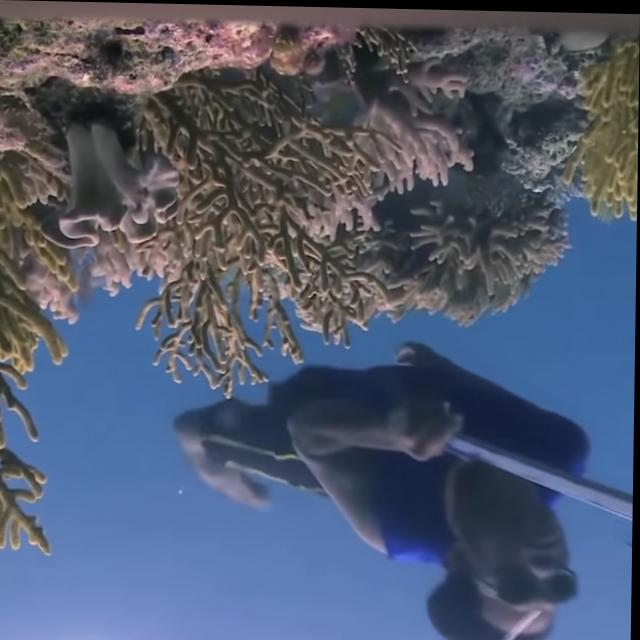human: (163, 334, 606, 640)
